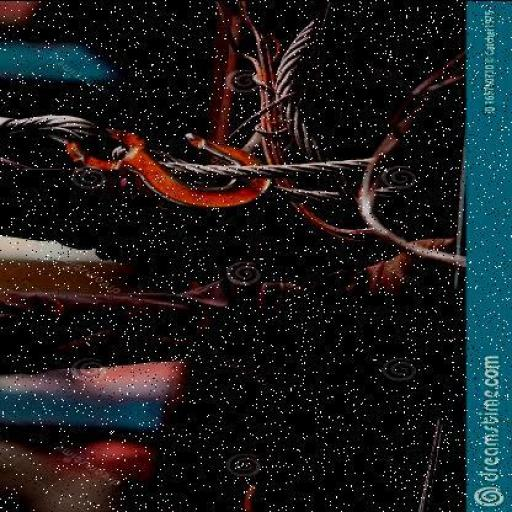safety_shoe: (93, 120, 277, 286), (261, 236, 457, 372)
